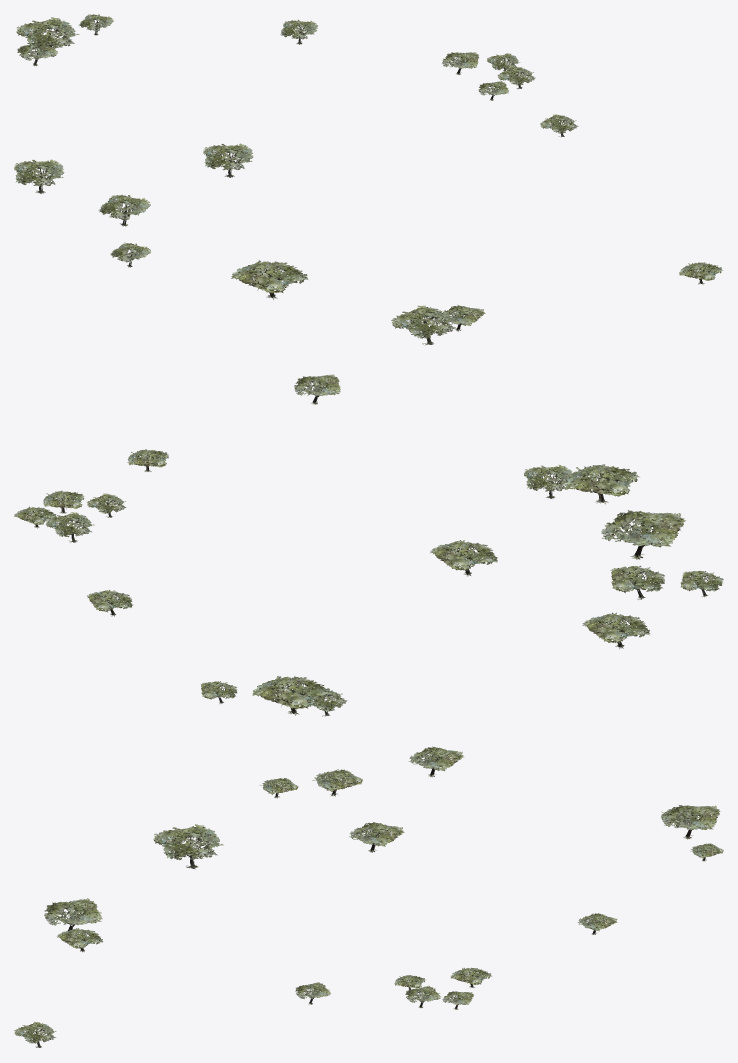
File: Arbol01.glb
3 views of the same model, one above another, from view 1: azimuth 30°, elevation 25°; view 2: azimuth 150°, elevation 25°; view 3: azimuth 270°, elevation 25° (orthographic). The views are drawn at different scales.
Parts seen in each view (by area): view 1: temp_mesh.ply.897; view 2: temp_mesh.ply.897; view 3: temp_mesh.ply.897.
Part boxes in pixels (left/top/right/bottom): temp_mesh.ply.897: left=14, top=14, right=723, bottom=345; temp_mesh.ply.897: left=14, top=374, right=723, bottom=716; temp_mesh.ply.897: left=14, top=746, right=723, bottom=1047.
Bounding box in the file's own units: 76.41 × 14.35 × 93.55.
1 material, 1 textured.
